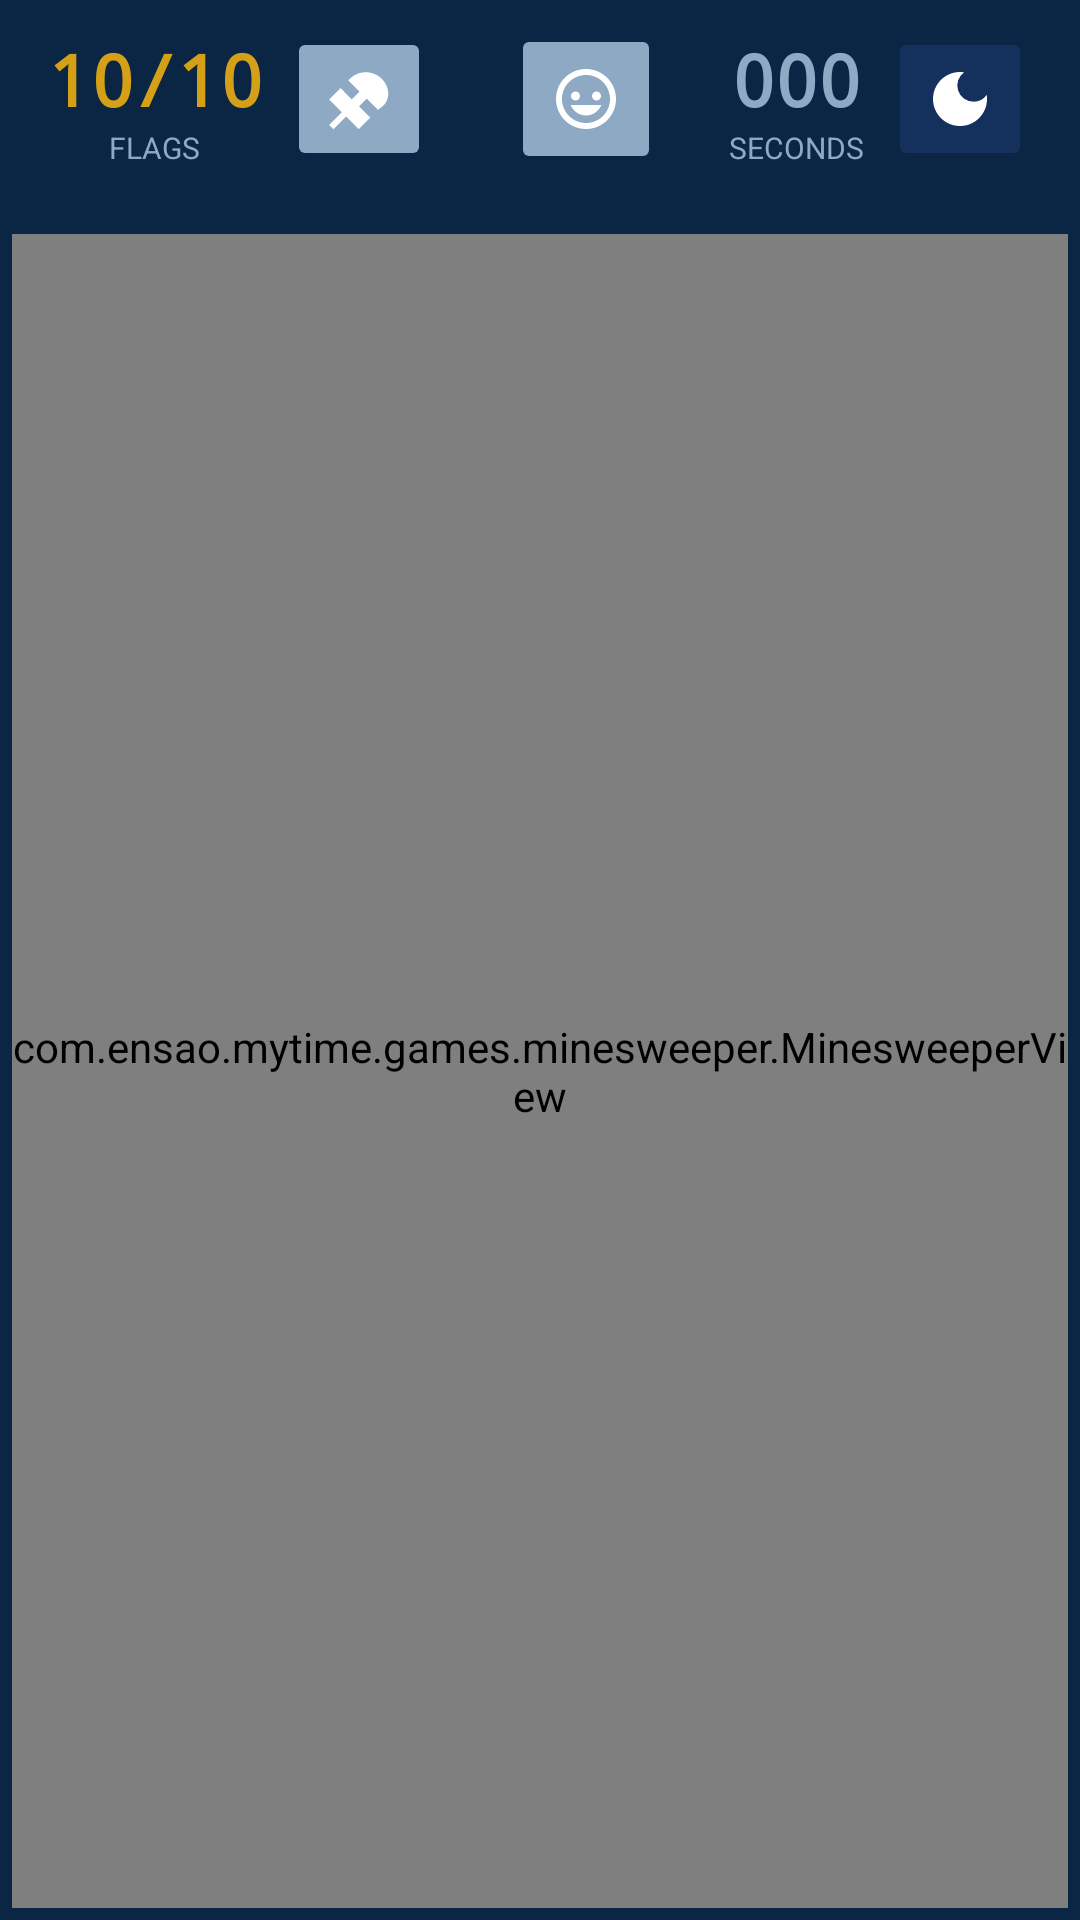

Locate icon controls on the screen. Image size 1080 x 1920, boxes as (x1, y1, x2, y2).
face smile: (523, 42, 649, 156)
mode: (933, 72, 987, 126)
shovel: (299, 45, 419, 153)
